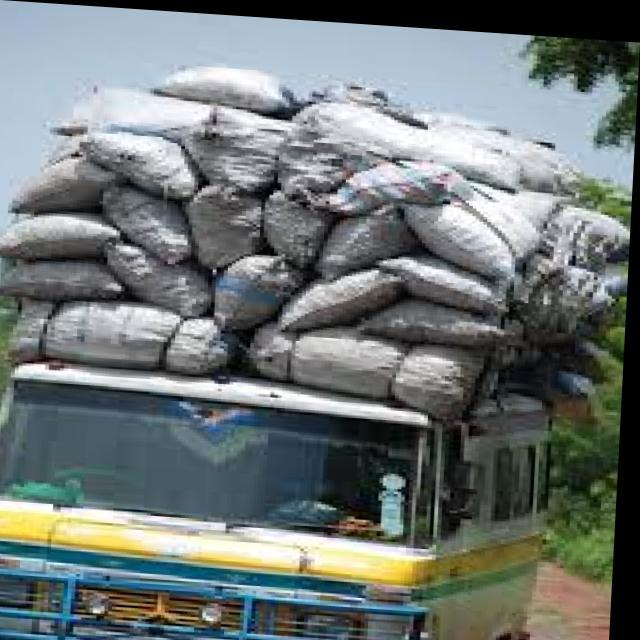uncovered: (0, 50, 631, 640)
